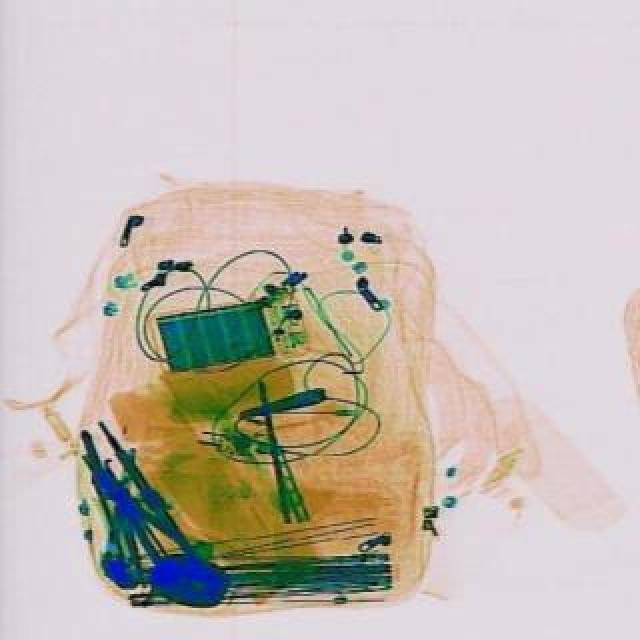wrench: (58, 438, 202, 592)
